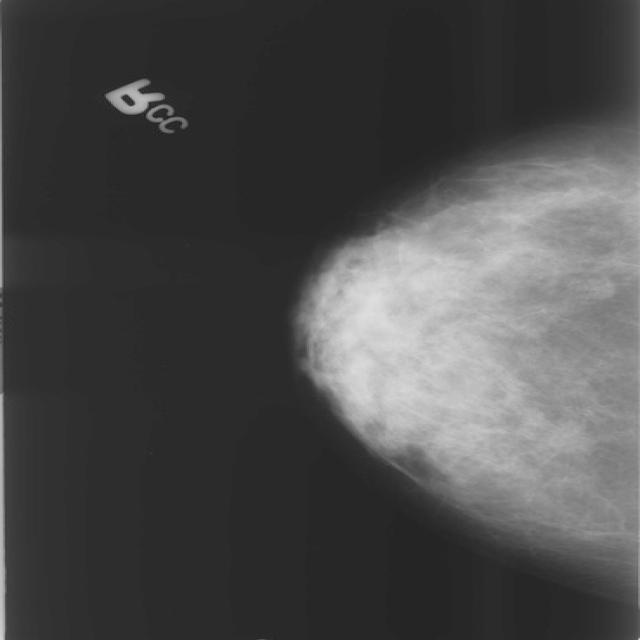tumour: (544, 420, 592, 454)
